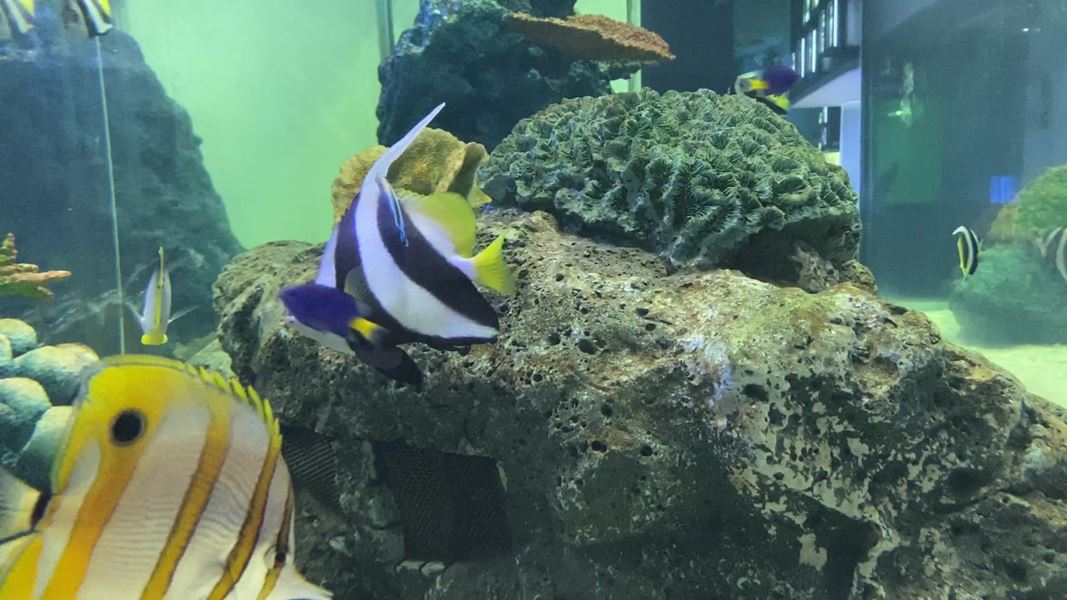Bluesteak cleaner wrasse: (367, 168, 417, 257)
